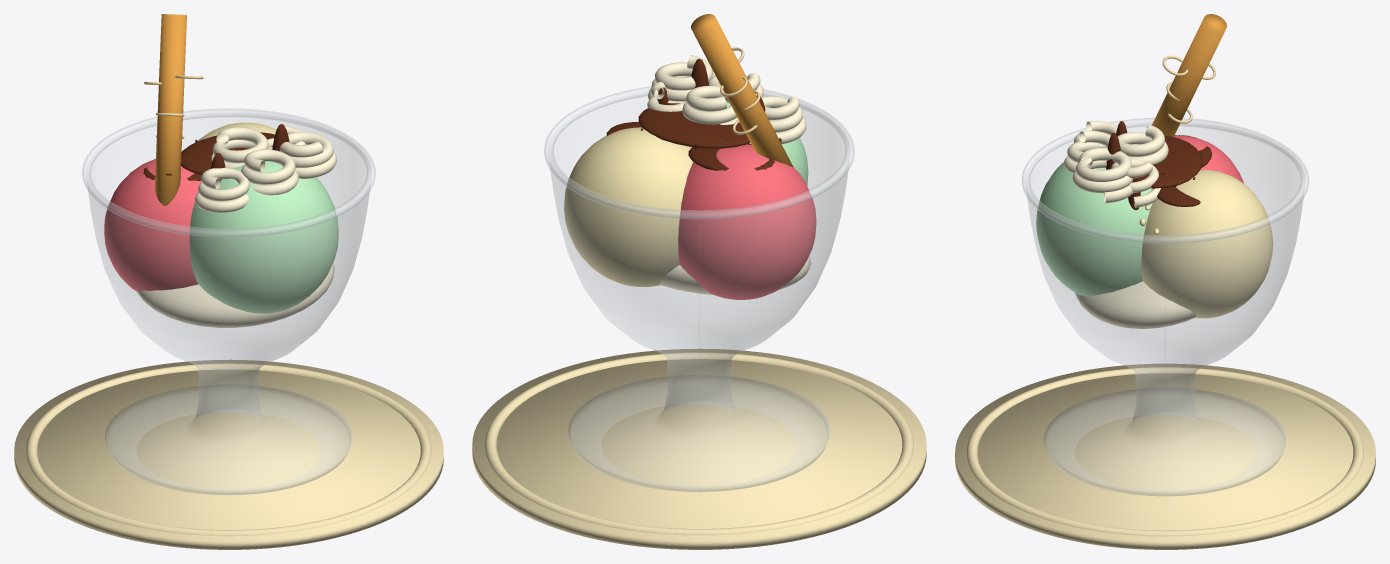
File: icecreamfinal.glb
The picture shows the model from 3 angles, left to right: view 1: azimuth 30°, elevation 25°; view 2: azimuth 150°, elevation 25°; view 3: azimuth 270°, elevation 25°; orthographic projection. The views are drawn at different scales.
Visible parts, largest first — view 1: TRANSPARENT_DESSERT_GLASS, Ceramic_Plate, MINT_SCOOP, STRAWBERRY_SCOOP, Plate_Rim, Glass_Rim, Long_Wafer_Stick, Cream_Base, Whipped_Cream_Rosette.002, Whipped_Cream_Rosette.001, Whipped_Cream_Rosette.003, Whipped_Cream_Rosette (+1 smaller); view 2: Ceramic_Plate, TRANSPARENT_DESSERT_GLASS, STRAWBERRY_SCOOP, VANILLA_SCOOP, Plate_Rim, Glass_Rim, Long_Wafer_Stick, Chocolate_Syrup, Whipped_Cream_Rosette, Whipped_Cream_Rosette.001, Whipped_Cream_Rosette.003, Cream_Base (+2 smaller); view 3: TRANSPARENT_DESSERT_GLASS, Ceramic_Plate, VANILLA_SCOOP, MINT_SCOOP, Plate_Rim, Glass_Rim, Cream_Base, Long_Wafer_Stick, Whipped_Cream_Rosette.003, Chocolate_Syrup, Whipped_Cream_Rosette, Whipped_Cream_Rosette.004 (+3 smaller).
Boxes of the visible parts, bbox=[...] form: TRANSPARENT_DESSERT_GLASS: bbox=[86, 113, 371, 494]; Ceramic_Plate: bbox=[14, 359, 443, 549]; MINT_SCOOP: bbox=[189, 161, 338, 313]; STRAWBERRY_SCOOP: bbox=[104, 159, 201, 291]; Plate_Rim: bbox=[26, 363, 431, 536]; Glass_Rim: bbox=[82, 108, 375, 237]; Long_Wafer_Stick: bbox=[154, 14, 186, 205]; Cream_Base: bbox=[136, 263, 334, 327]; Whipped_Cream_Rosette.002: bbox=[241, 149, 298, 195]; Whipped_Cream_Rosette.001: bbox=[195, 167, 250, 212]; Whipped_Cream_Rosette.003: bbox=[279, 132, 336, 178]; Whipped_Cream_Rosette: bbox=[211, 127, 268, 168]; Ceramic_Plate: bbox=[472, 348, 926, 549]; TRANSPARENT_DESSERT_GLASS: bbox=[548, 91, 850, 491]; STRAWBERRY_SCOOP: bbox=[678, 144, 816, 299]; VANILLA_SCOOP: bbox=[564, 127, 692, 286]; Plate_Rim: bbox=[485, 352, 913, 535]; Glass_Rim: bbox=[544, 86, 854, 218]; Long_Wafer_Stick: bbox=[691, 14, 793, 167]; Chocolate_Syrup: bbox=[638, 103, 750, 148]; Whipped_Cream_Rosette: bbox=[682, 85, 739, 124]; Whipped_Cream_Rosette.001: bbox=[761, 96, 806, 143]; Whipped_Cream_Rosette.003: bbox=[648, 55, 714, 103]; Cream_Base: bbox=[660, 255, 811, 295]; TRANSPARENT_DESSERT_GLASS: bbox=[1026, 122, 1304, 496]; Ceramic_Plate: bbox=[955, 363, 1375, 549]; VANILLA_SCOOP: bbox=[1141, 169, 1273, 318]; MINT_SCOOP: bbox=[1036, 147, 1152, 295]; Plate_Rim: bbox=[967, 367, 1363, 536]; Glass_Rim: bbox=[1022, 118, 1308, 243]; Cream_Base: bbox=[1075, 281, 1195, 328]; Long_Wafer_Stick: bbox=[1152, 14, 1226, 136]; Whipped_Cream_Rosette.003: bbox=[1072, 147, 1133, 203]; Chocolate_Syrup: bbox=[1139, 136, 1202, 188]; Whipped_Cream_Rosette: bbox=[1117, 125, 1168, 164]; Whipped_Cream_Rosette.004: bbox=[1111, 159, 1160, 207].
Size of the model in its own units: 5.4 by 6.08 by 5.4.
